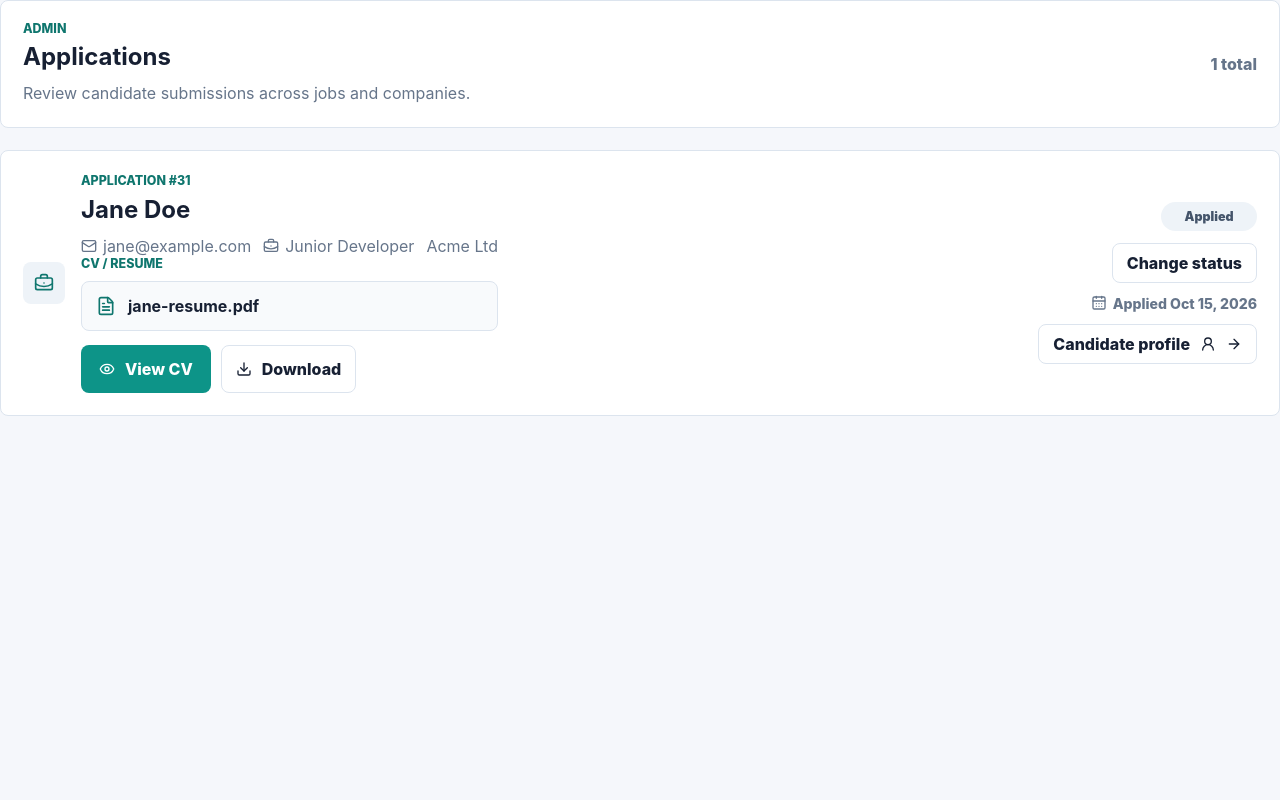
Scenario: AdminApplicationsPage › closes the status dialog when Cancel is clicked
Expected: the link "Jane Doe" is shown, [81,195,190,224]
Step 1. Click the button "Change status" → (1184, 263), box [1112,243,1257,283]
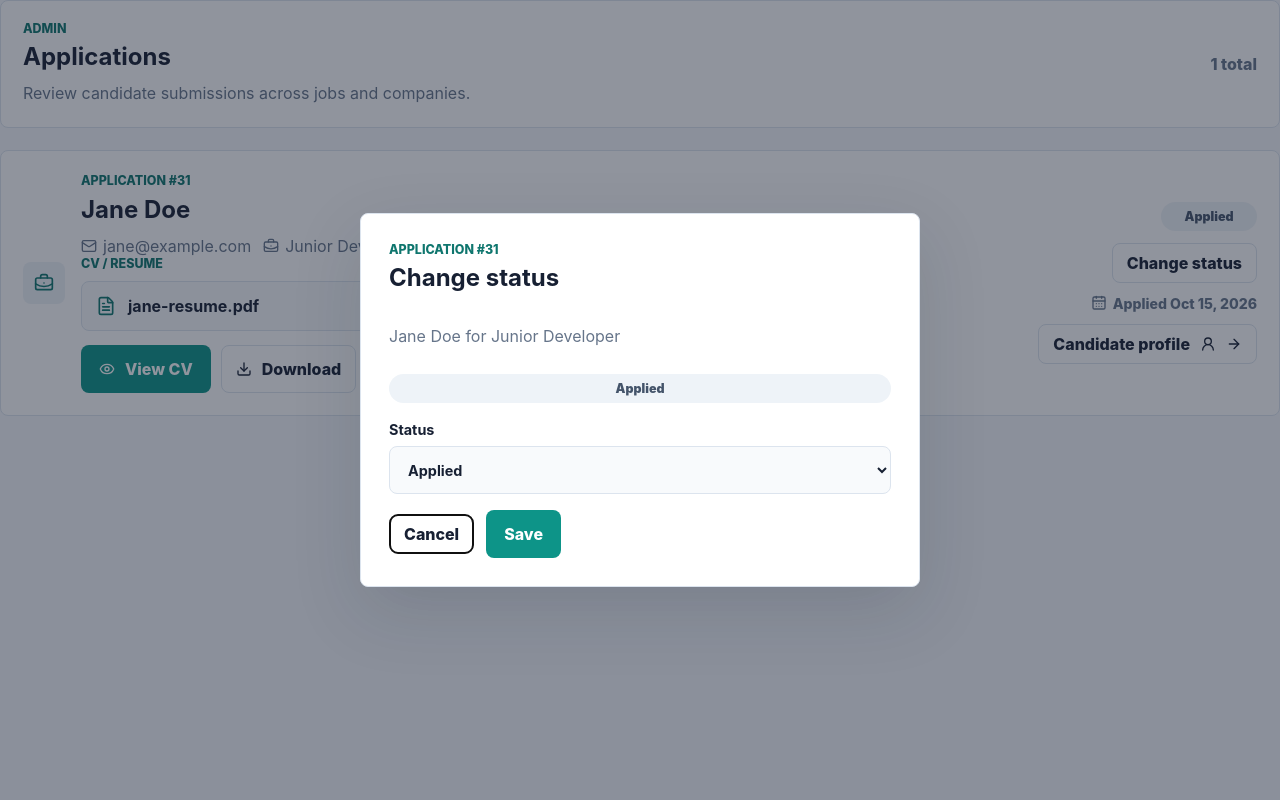
Expected: the dialog is shown, [360,213,920,587]
Step 2. Click the button "Cancel" → (432, 534), box [389,514,474,554]
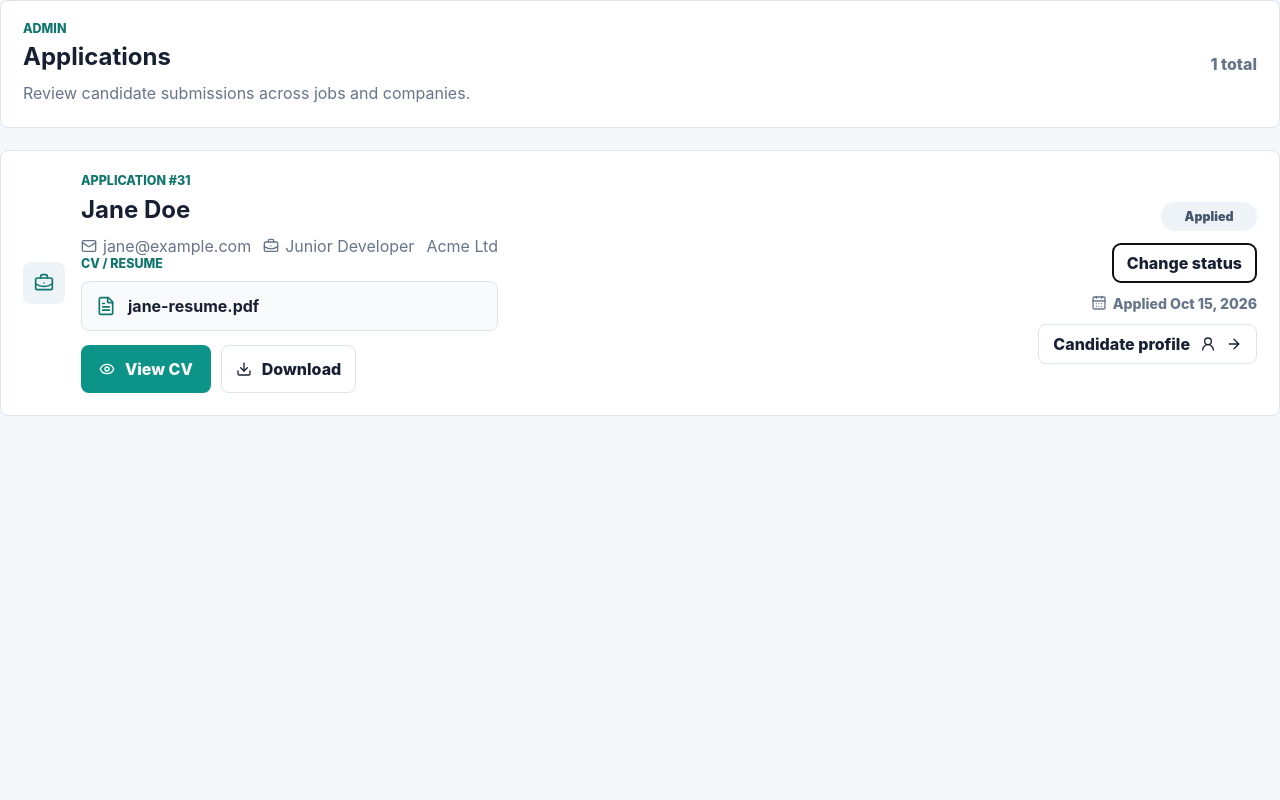
Expected: the dialog is gone
